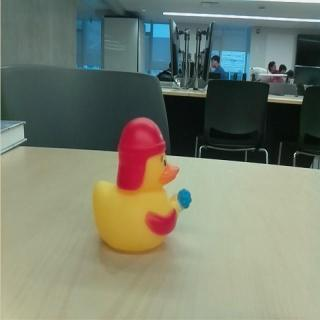duck_specialty: (92, 116, 194, 254)
